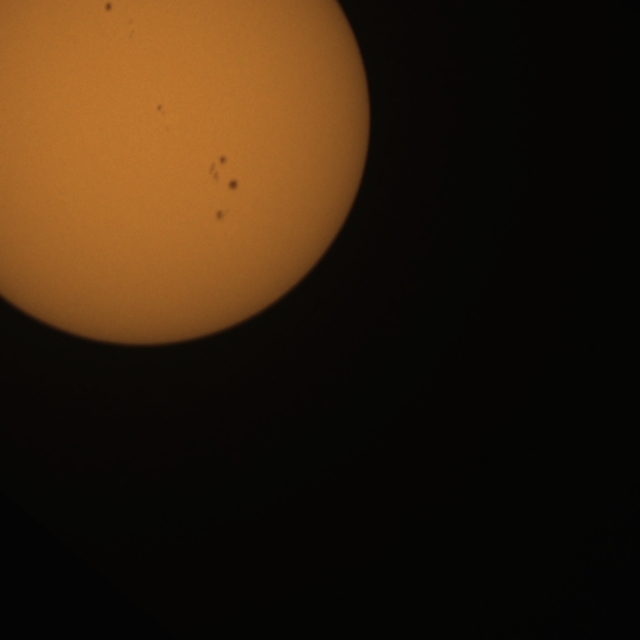sunspot: (208, 154, 235, 190), (126, 17, 136, 41), (227, 178, 240, 192), (214, 208, 226, 223), (104, 1, 114, 13), (156, 103, 164, 113)
